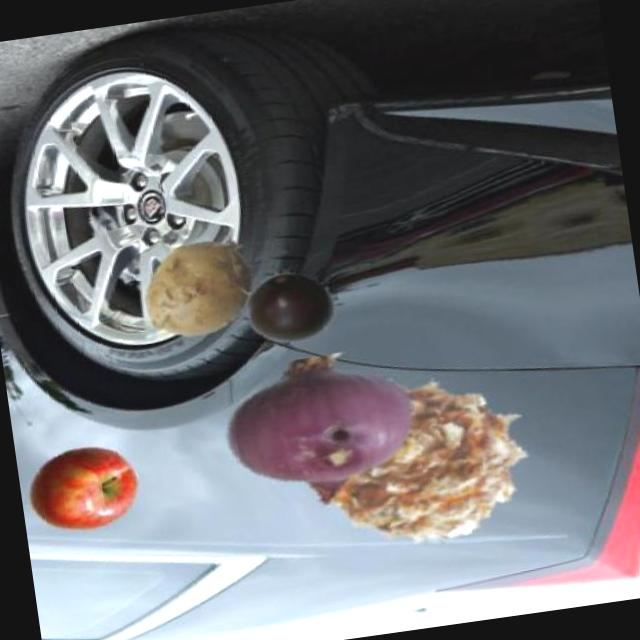Apple: (21, 439, 146, 539)
